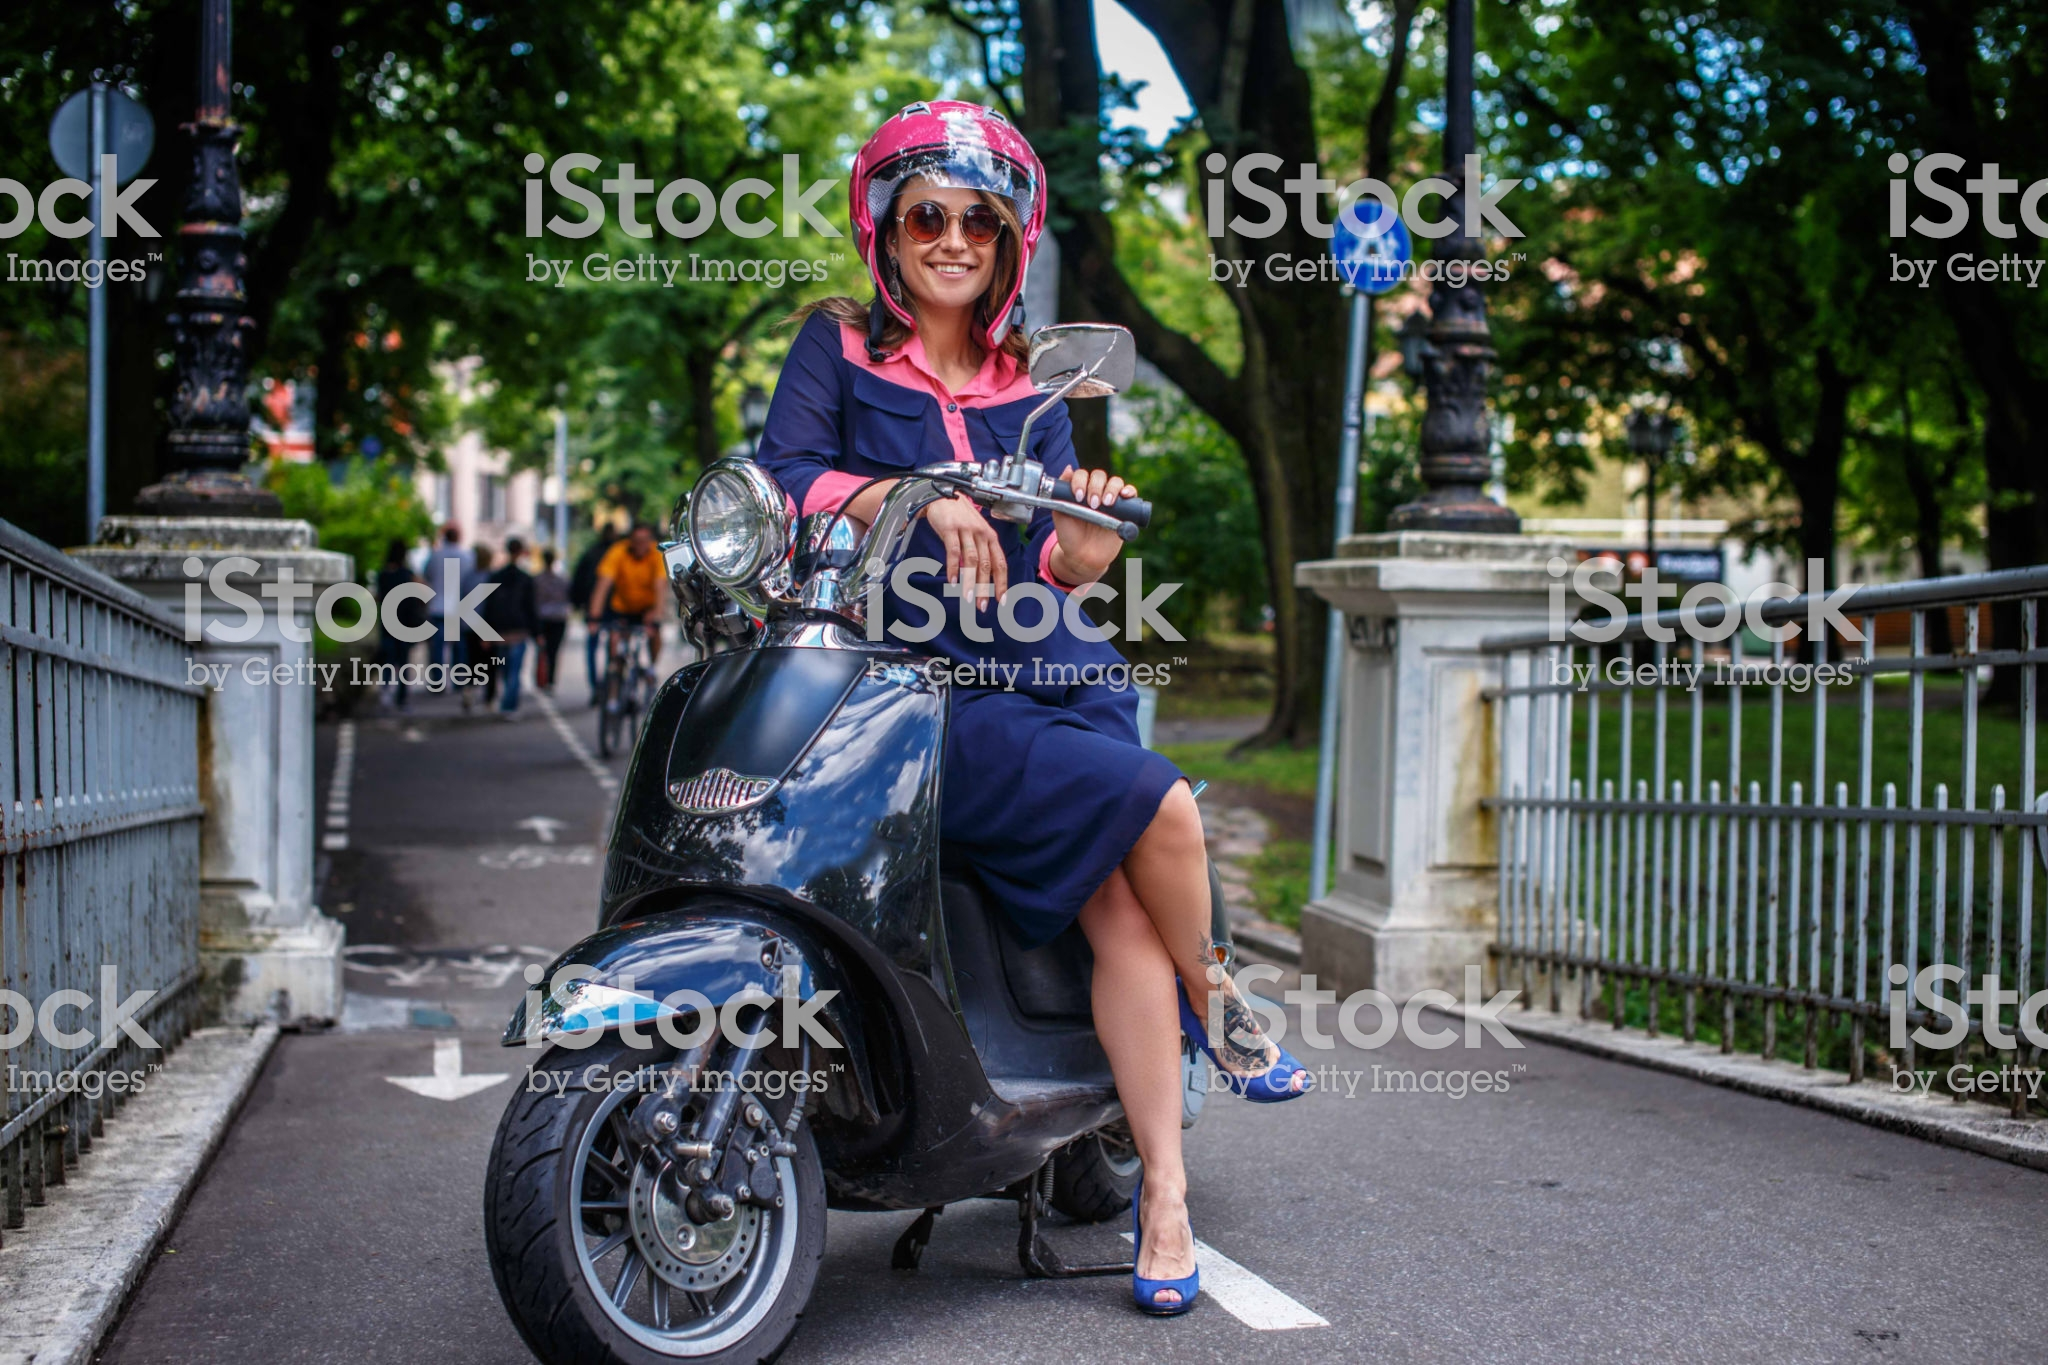helmet: (856, 90, 1075, 329)
